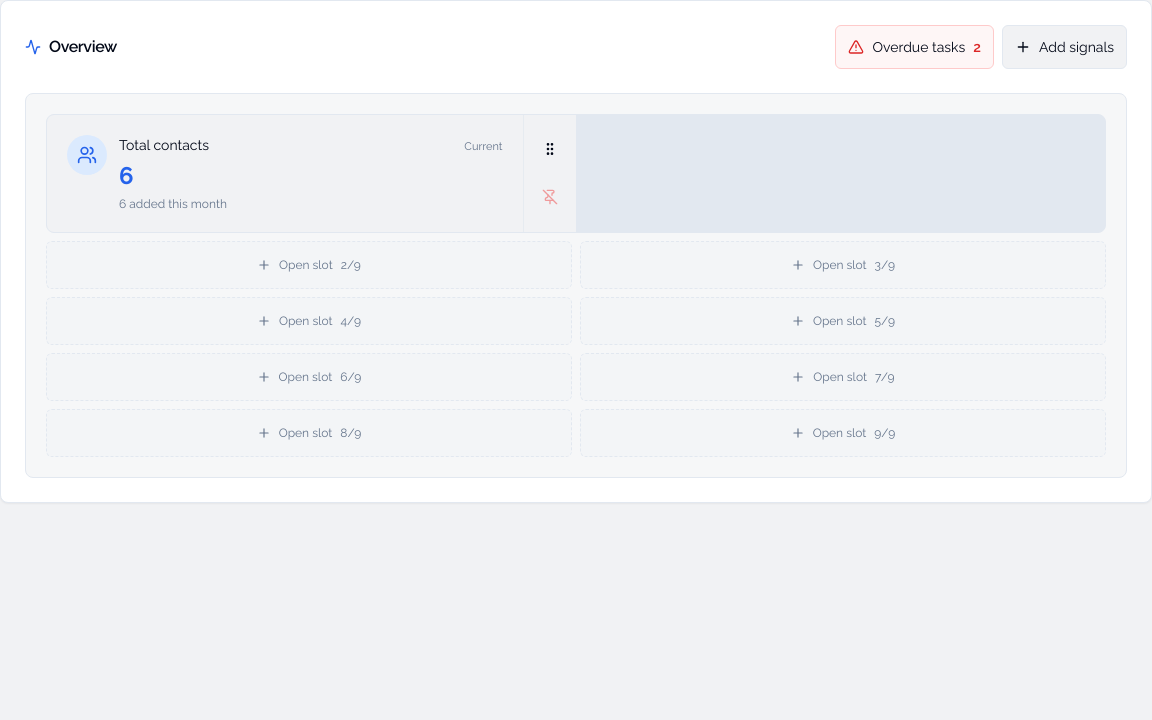
it: DashboardOverview › uses the same picker body in a bottom sheet on mobile
The width and height of the screenshot is (1152, 720).
Click the button "Add signals" at (1064, 47), box [1002,25,1127,69]
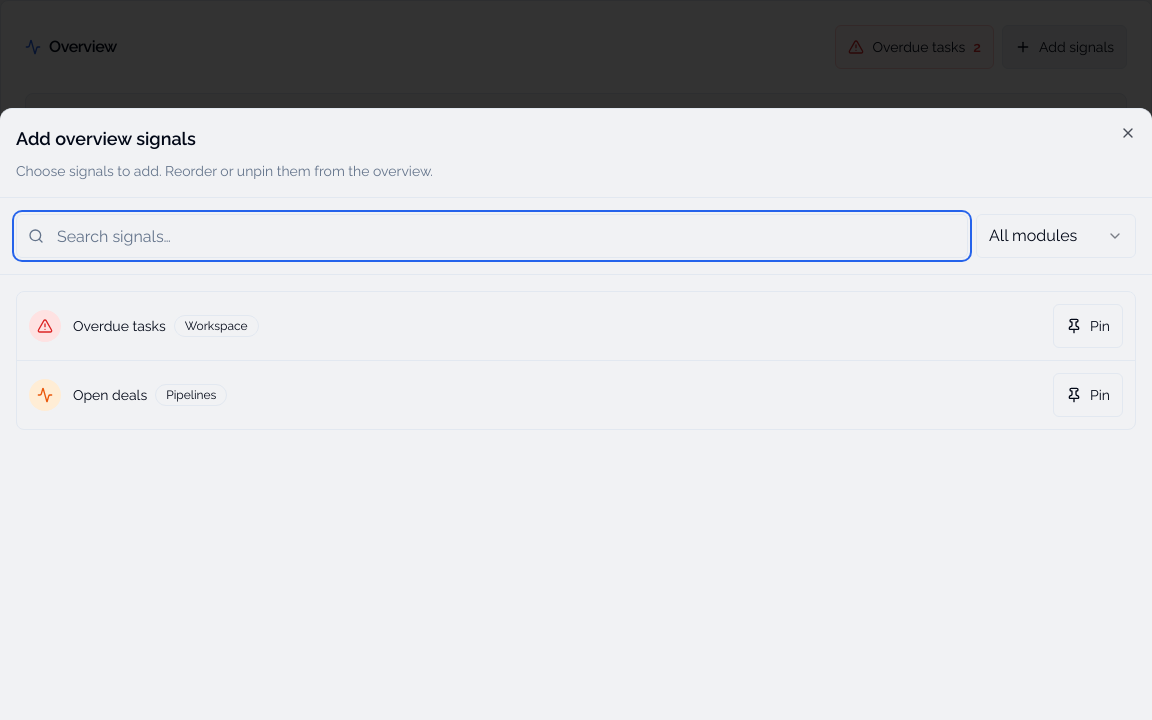
Expected: the search field named "Search overview signals" is shown, [16,214,968,258]
Expected: the dropdown named "Filter signals by module" is shown, [976,214,1136,258]
